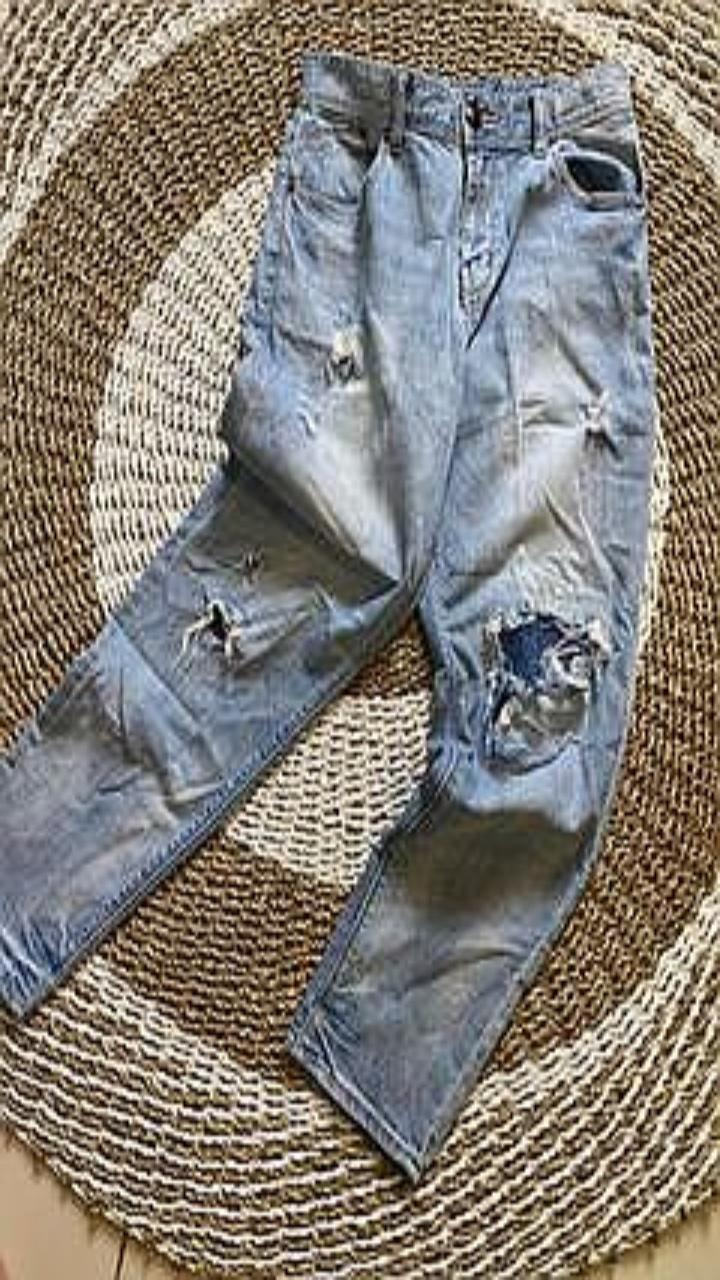Jeans: (0, 51, 654, 1180)
